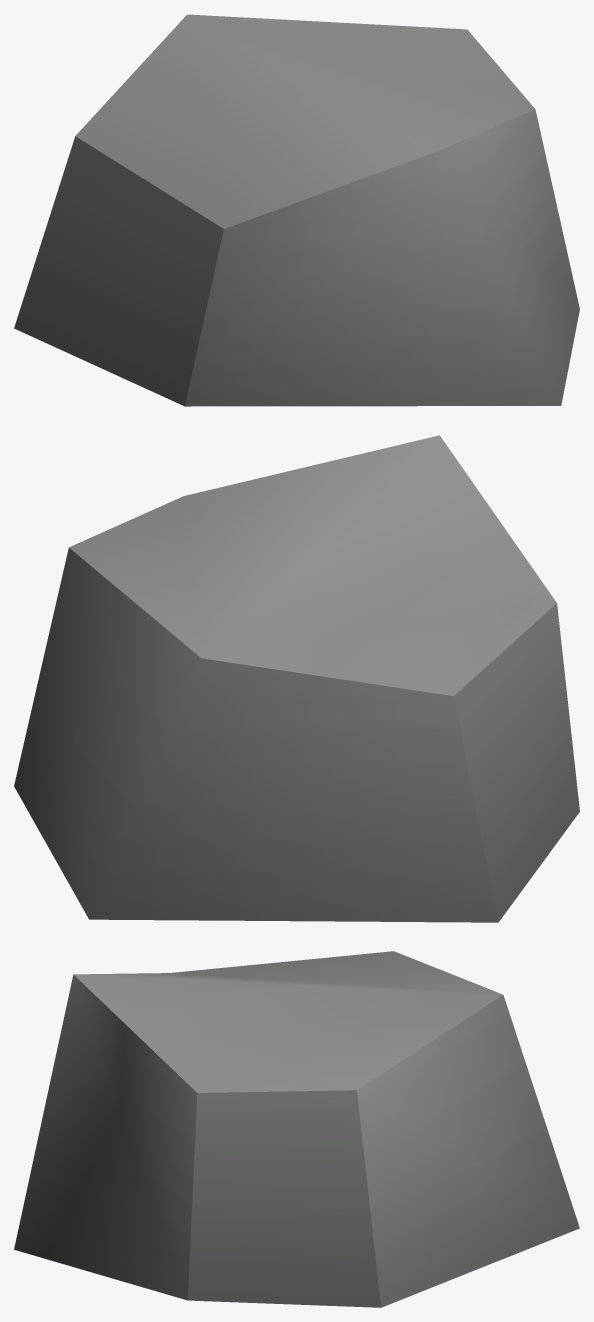
3 views of the same model, one above another, from view 1: azimuth 30°, elevation 25°; view 2: azimuth 150°, elevation 25°; view 3: azimuth 270°, elevation 25° (orthographic). The views are drawn at different scales.
Visible parts, largest first — view 1: Rock001; view 2: Rock001; view 3: Rock001.
Boxes of the visible parts, box(x1,y1,x2,y2) form: Rock001: box(14, 14, 579, 406); Rock001: box(14, 435, 579, 922); Rock001: box(14, 951, 579, 1307).
Bounding box in the file's own units: 4.05 × 2.13 × 4.68.
Materials: 1 (1 with a texture image).
